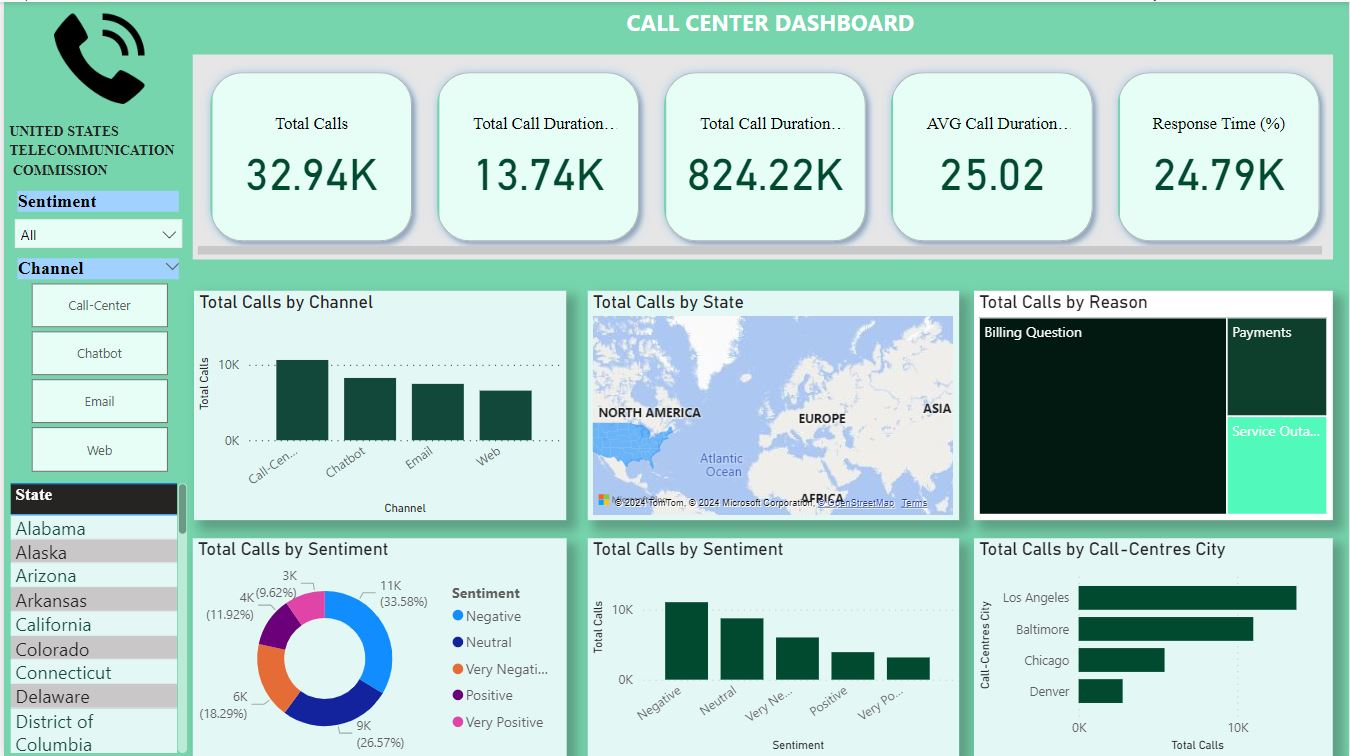

The page's visual inventory and layout, read from the dashboard file:
{"tool":"powerbi","page":{"name":"Page 1","canvas":[1280,720],"ordinal":0},"visuals":[{"type":"textbox","box":[179.7,0,1099.9,54.3],"z":0},{"type":"textbox","box":[0,0,179.7,720],"z":1000},{"type":"cardVisual","fields":{"Data":["Call Center_Call Center.Total Calls","Call Center_Call Center.Total Call Duration (Hr)","Call Center_Call Center.Total Call Duration (Mins)","Call Center_Call Center.AVG Call Duration (Mins)","Call Center_Call Center.Response Time (%)"]},"box":[179.7,49.4,1085.4,195.4],"z":2000},{"type":"columnChart","fields":{"Y":["Call Center_Call Center.Total Calls"],"Category":["Call Center_Call Center.Channel"]},"box":[180.9,275,354.6,218.3],"z":3000},{"type":"filledMap","fields":{"Category":["Call Center_Call Center.State"]},"box":[556,275,353.4,218.3],"z":4000},{"type":"treemap","fields":{"Details":["Call Center_Call Center.Reason"],"Values":["Call Center_Call Center.Total Calls"]},"box":[923.8,275,341.3,218.3],"z":5000},{"type":"donutChart","fields":{"Y":["Call Center_Call Center.Total Calls"],"Category":["Call Center_Call Center.Sentiment"]},"box":[179.7,510.2,355.8,208.6],"z":6000},{"type":"columnChart","fields":{"Category":["Call Center_Call Center.Sentiment"],"Y":["Call Center_Call Center.Total Calls"]},"box":[556,510.2,353.4,208.6],"z":7000},{"type":"clusteredBarChart","fields":{"Y":["Call Center_Call Center.Total Calls"],"Category":["Call Center_Call Center.Call-Centres City"]},"box":[923.8,510.2,341.3,208.6],"z":8000},{"type":"slicer","fields":{"Values":["Call Center_Call Center.Channel"]},"box":[0,238.8,179.7,214.7],"z":9000},{"type":"tableEx","fields":{"Values":["Call Center_Call Center.State"]},"box":[0,453.5,179.7,266.5],"z":10000},{"type":"slicer","fields":{"Values":["Call Center_Call Center.Sentiment"]},"box":[0,174.9,179.7,63.9],"z":11000},{"type":"textbox","box":[0,108.5,180.9,66.3],"z":12000},{"type":"image","box":[4.8,0,171.3,108.5],"z":13000}]}

Visuals, with their boxes in screenshot pixels (x1, y1, x2, y2), scaled from the page's 1280x720 canvas onto the 1350x756 screenshot:
textbox: x1=190 y1=0 x2=1349 y2=57
textbox: x1=0 y1=0 x2=190 y2=755
cardVisual - Call Center_Call Center.Total Calls x Call Center_Call Center.Total Call Duration (Hr): x1=190 y1=52 x2=1334 y2=257
columnChart - Call Center_Call Center.Total Calls x Call Center_Call Center.Channel: x1=191 y1=289 x2=565 y2=518
filledMap - Call Center_Call Center.State: x1=586 y1=289 x2=959 y2=518
treemap - Call Center_Call Center.Reason x Call Center_Call Center.Total Calls: x1=974 y1=289 x2=1334 y2=518
donutChart - Call Center_Call Center.Total Calls x Call Center_Call Center.Sentiment: x1=190 y1=536 x2=565 y2=755
columnChart - Call Center_Call Center.Sentiment x Call Center_Call Center.Total Calls: x1=586 y1=536 x2=959 y2=755
clusteredBarChart - Call Center_Call Center.Total Calls x Call Center_Call Center.Call-Centres City: x1=974 y1=536 x2=1334 y2=755
slicer - Call Center_Call Center.Channel: x1=0 y1=251 x2=190 y2=476
tableEx - Call Center_Call Center.State: x1=0 y1=476 x2=190 y2=755
slicer - Call Center_Call Center.Sentiment: x1=0 y1=184 x2=190 y2=251
textbox: x1=0 y1=114 x2=191 y2=184
image: x1=5 y1=0 x2=186 y2=114
